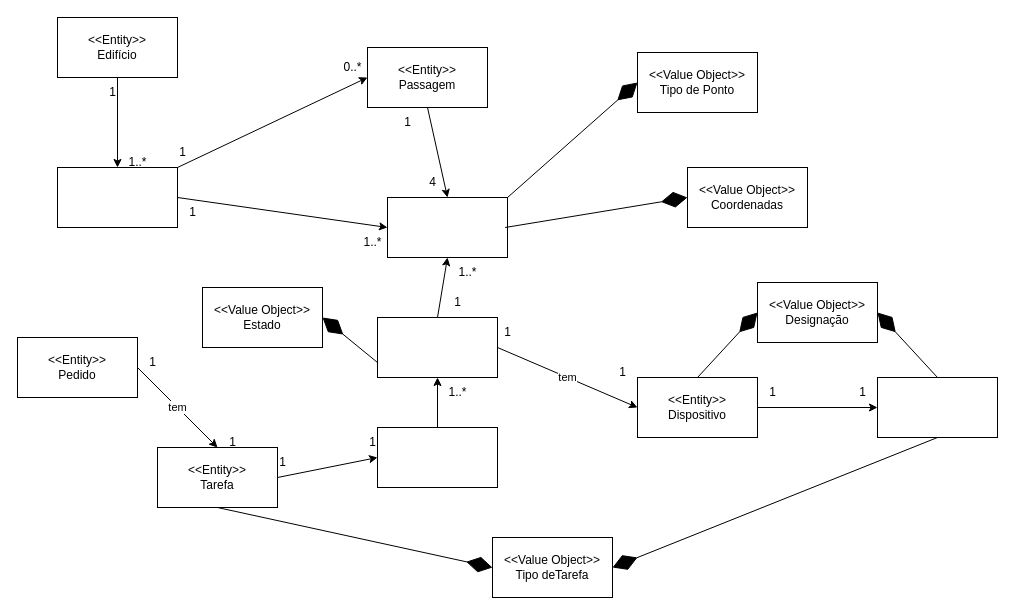
Image size: 1015x615. Some labels were removed from this diagram. The centre of each missing label's shape, as x and y in pixels:
"<<Entity>> Percurso" belongs at point 437,457.
"<<Entity>> Piso" belongs at point 117,197.
"<<Entity>> Ponto" belongs at point 447,227.
"<<Entity>> Tipo de Dispositivo" belongs at point 937,407.
"<<Entity>> Trajeto" belongs at point 437,347.
